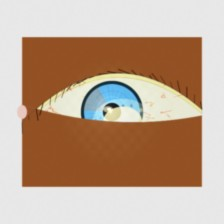corneal_ulcer: (91, 96, 154, 146)
